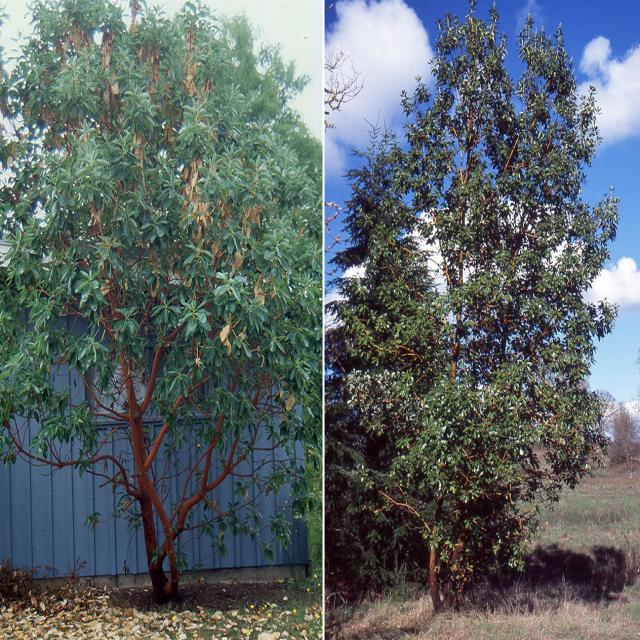Arbutus menziesii: (7, 8, 316, 601), (334, 8, 620, 610)
